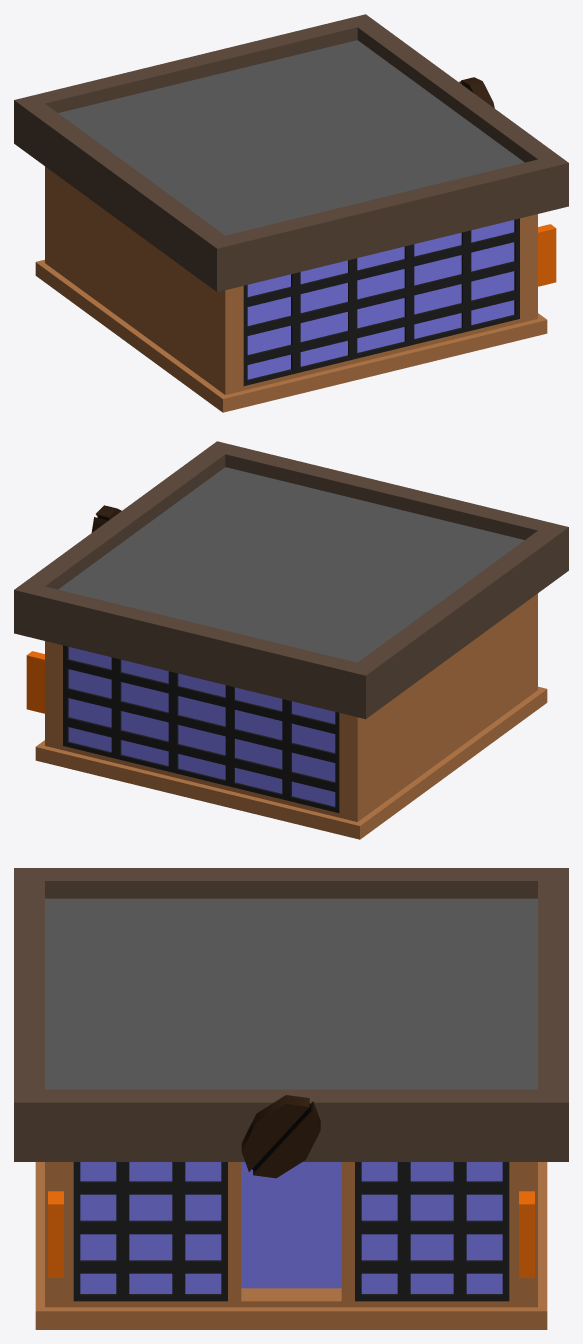
The model's file is Coffee Shop.FBX.
3 views of the same model, one above another, from view 1: azimuth 30°, elevation 25°; view 2: azimuth 150°, elevation 25°; view 3: azimuth 270°, elevation 25° (orthographic). The views are drawn at different scales.
Parts seen in each view (by area): view 1: Coffee shop; view 2: Coffee shop; view 3: Coffee shop.
Boxes of the visible parts, x1,y1,x2,y2 form: Coffee shop: (14,14,568,412); Coffee shop: (14,441,568,839); Coffee shop: (14,868,568,1329).
Size of the model in its own units: 368 by 172 by 354.
1 material, 1 textured.
